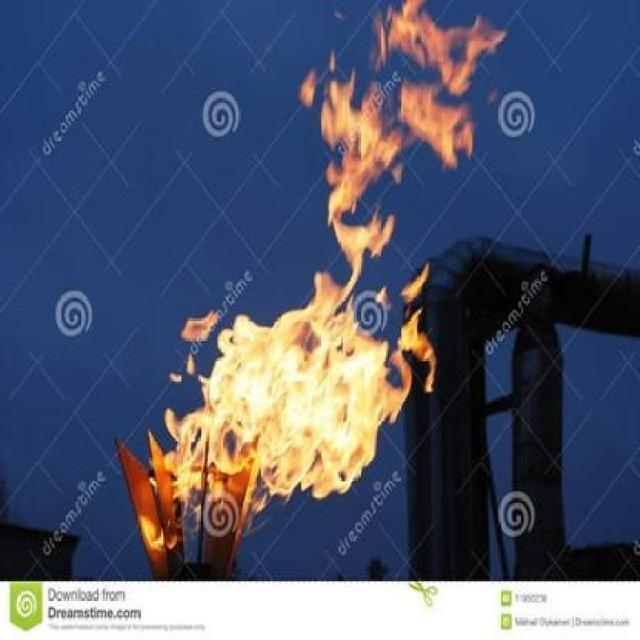Fire: (128, 266, 438, 504), (300, 3, 502, 260)
